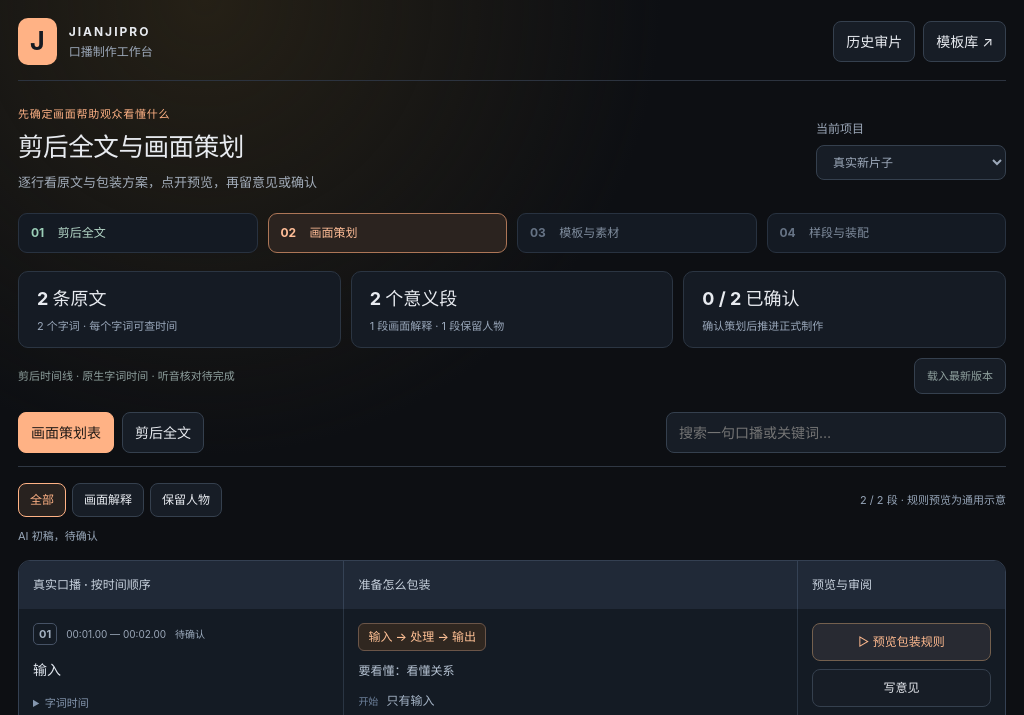
保存失败保留对应行输入，新版本阻断旧提交并允许带草稿载入新版
The image size is (1024, 715).
Step 1. Click the button "写意见" → click(901, 688), box [812,669,991,707]
(page scrolled)
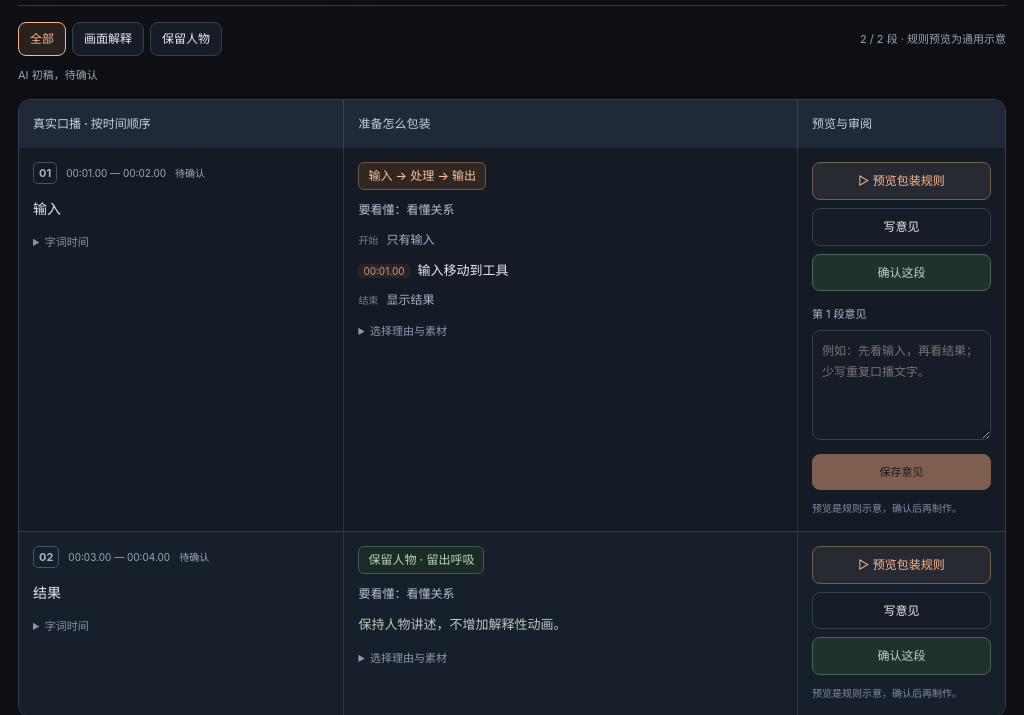
Step 2. Type "输入先出现" into the text box labelled "第 1 段意见" → (901, 384), box [812,330,991,440]
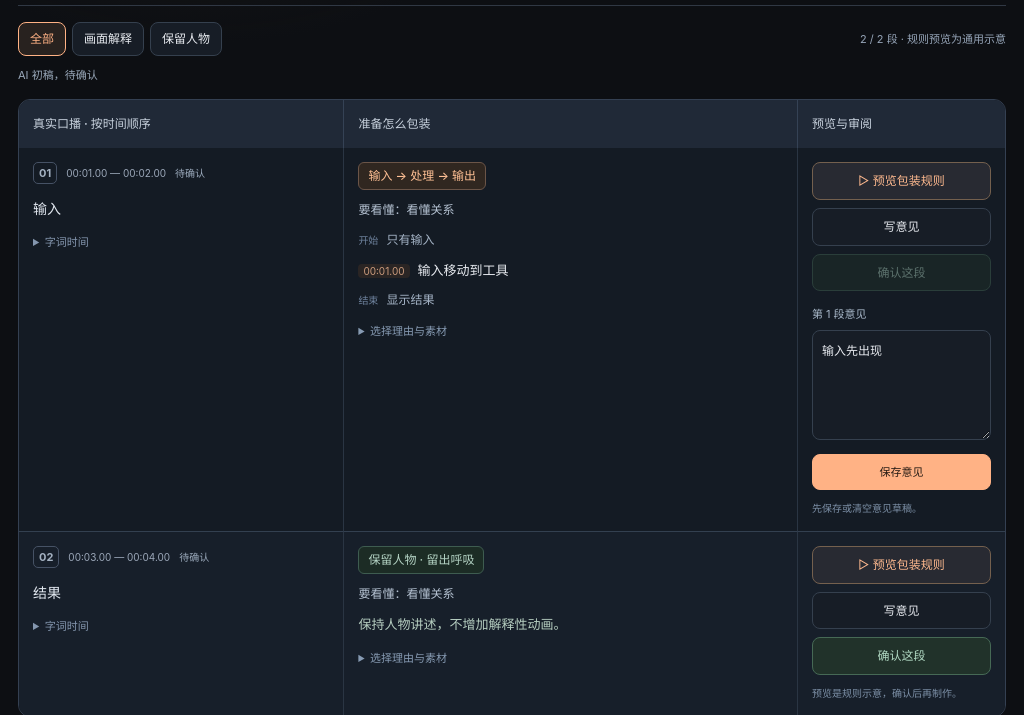
Step 3. Click the button with aria-label "保存第 1 段意见" → click(901, 472), box [812,454,991,490]
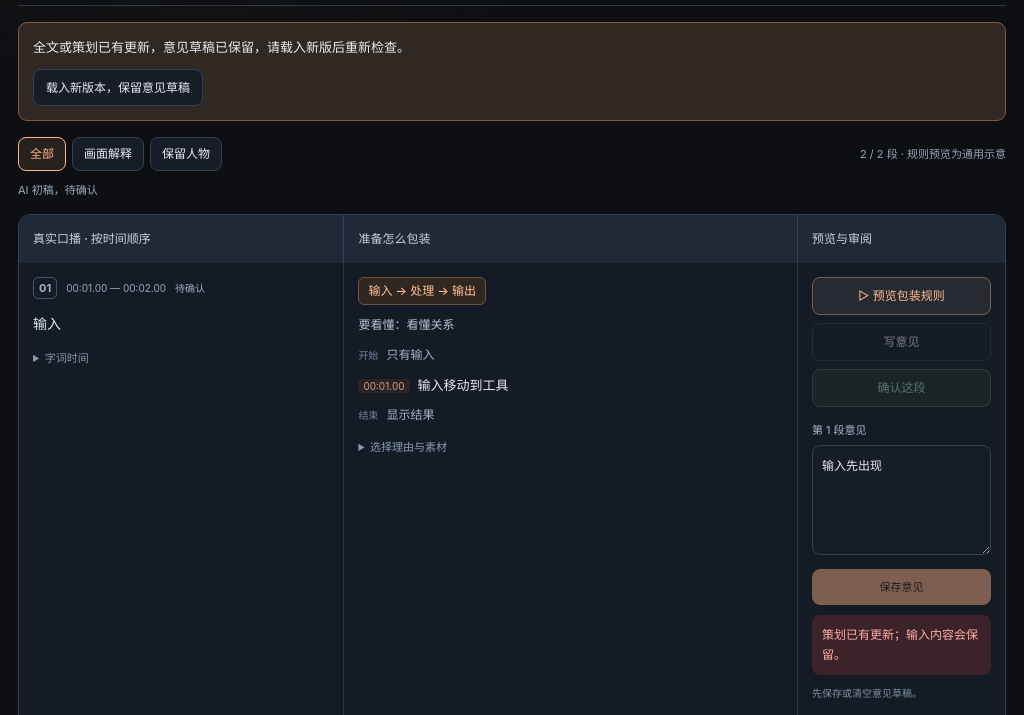
Expected: the message shows "输入内容会保留", [822,627,978,662]
Expected: the button with aria-label "保存第 1 段意见" is disabled, [812,569,991,605]
Step 4. Click the button "载入新版本，保留意见草稿" → click(118, 88), box [33,69,203,106]
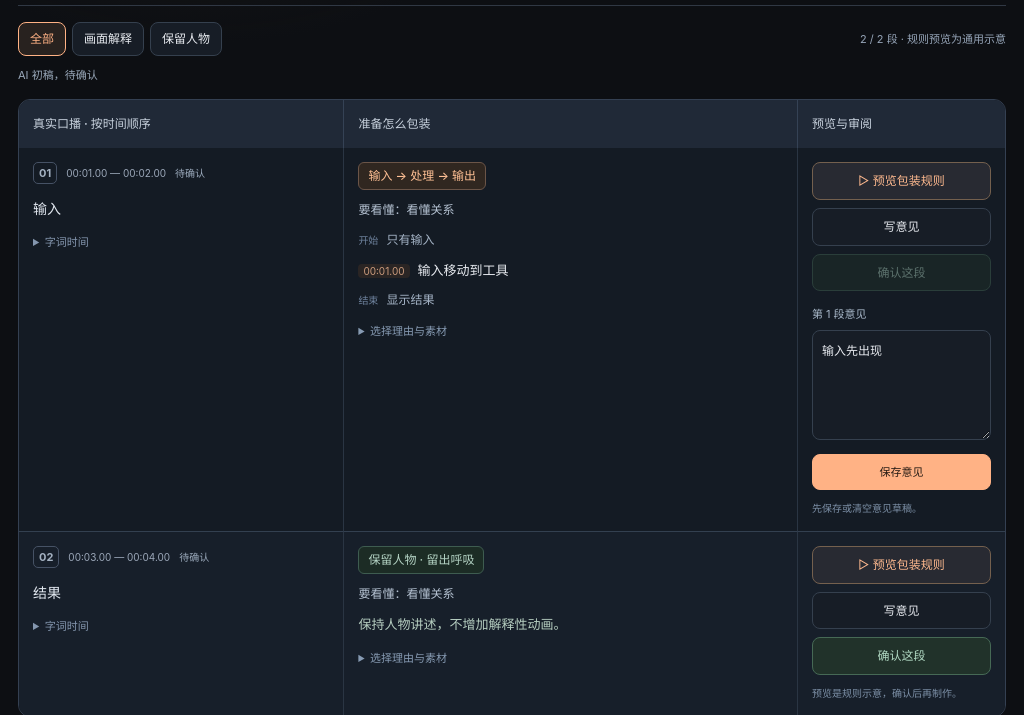
Expected: the text box labelled "第 1 段意见" holds "输入先出现", [812,330,991,440]
Expected: the button with aria-label "保存第 1 段意见" is enabled, [812,454,991,490]
